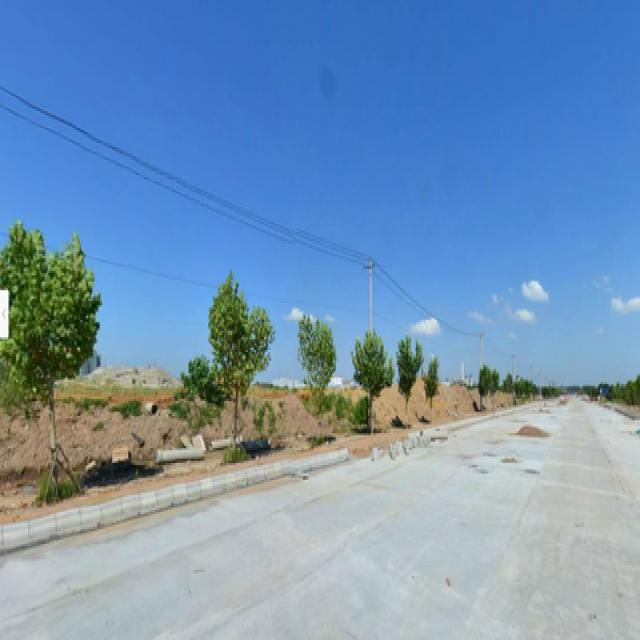meta: (5, 235, 99, 484), (217, 284, 259, 452), (293, 320, 332, 442), (354, 331, 378, 431), (390, 326, 414, 416)
